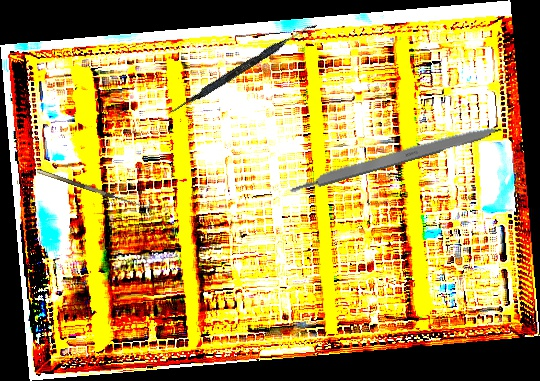Hook Surgical: (36, 163, 152, 211)
Scalpel Handle: (285, 119, 505, 196)
Spatula Surgical: (168, 17, 318, 119)
